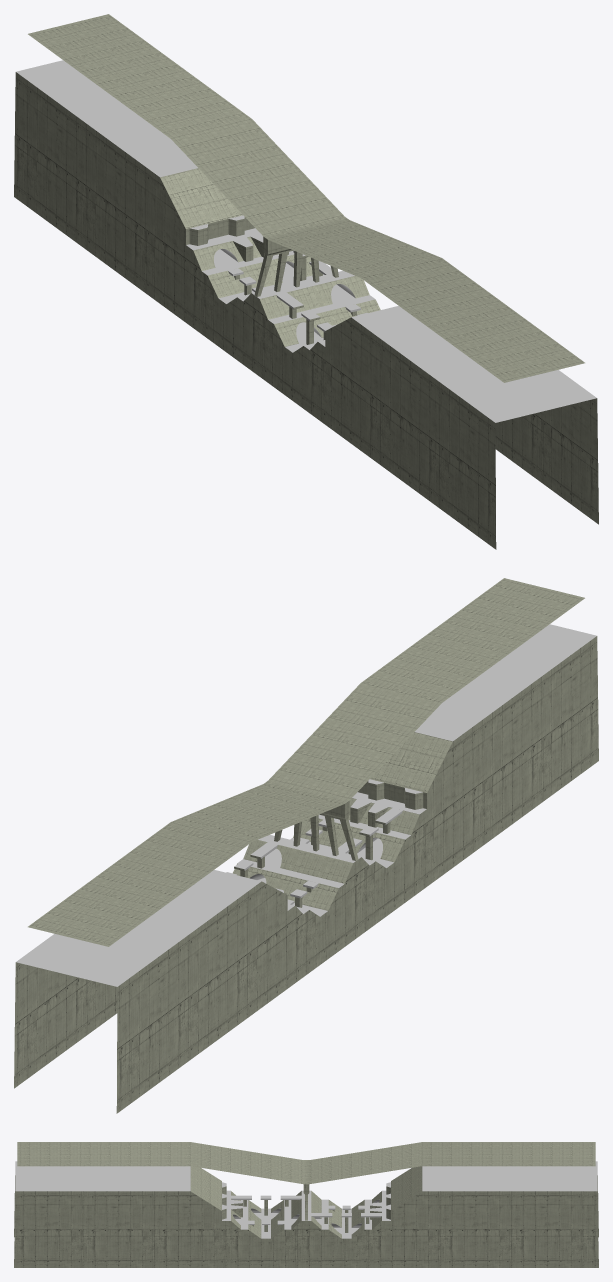
Rendered from SM_LDFest_20_00.fbx.
The picture shows the model from 3 angles, top to bottom: view 1: azimuth 30°, elevation 25°; view 2: azimuth 150°, elevation 25°; view 3: azimuth 270°, elevation 25°; orthographic projection. The views are drawn at different scales.
Visible parts, largest first — view 1: SM_LDFest_20_00.001, SM_LDFest_20_00; view 2: SM_LDFest_20_00.001, SM_LDFest_20_00; view 3: SM_LDFest_20_00.001, SM_LDFest_20_00.
Part boxes in pixels (x1,y1,x2,y2): SM_LDFest_20_00.001: (14,60,598,549); SM_LDFest_20_00: (28,14,584,382); SM_LDFest_20_00.001: (14,624,598,1113); SM_LDFest_20_00: (28,578,584,946); SM_LDFest_20_00.001: (14,1161,598,1267); SM_LDFest_20_00: (17,1142,595,1238).
Size of the model in its own units: 4559 by 6881 by 37043.
